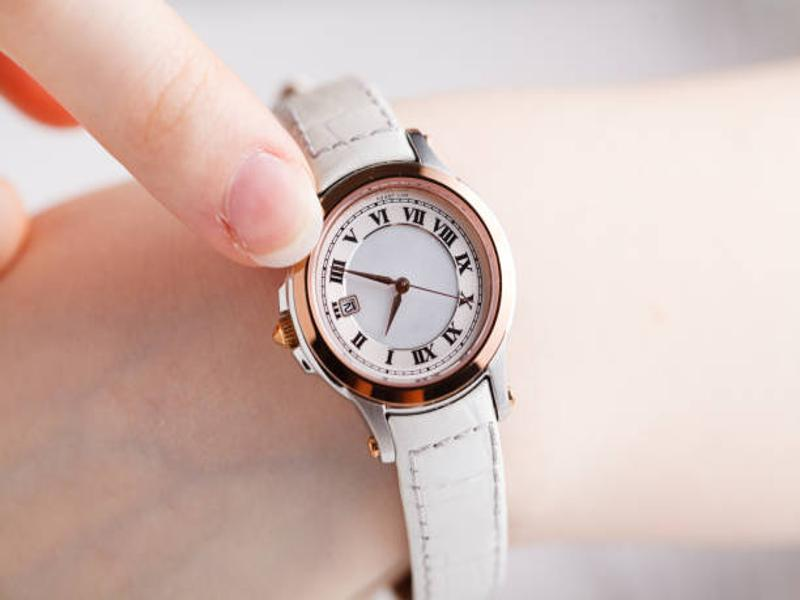watch: (269, 71, 524, 584)
